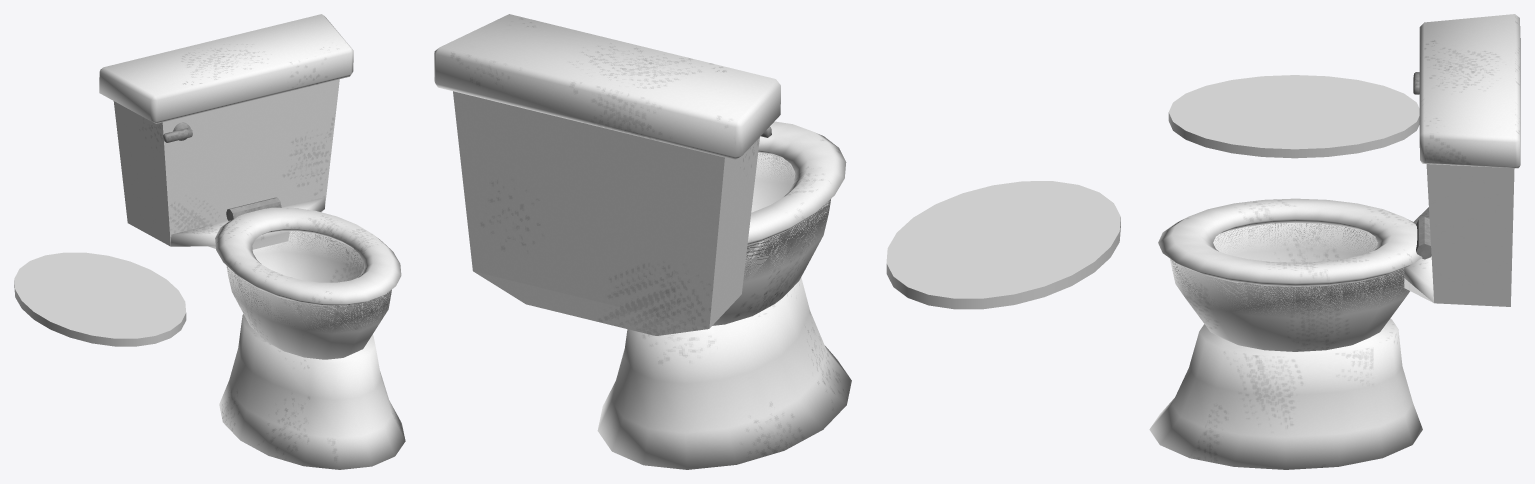
File: toilet3.glb
The picture shows the model from 3 angles, left to right: view 1: azimuth 30°, elevation 25°; view 2: azimuth 150°, elevation 25°; view 3: azimuth 270°, elevation 25°; orthographic projection. The views are drawn at different scales.
Visible parts, largest first — view 1: base, ToiletLid; view 2: base, ToiletLid; view 3: base, ToiletLid.
Part boxes in pixels (x1=…): base: x1=99, y1=14, x2=405, y2=469; ToiletLid: x1=14, y1=252, x2=186, y2=346; base: x1=434, y1=14, x2=851, y2=469; ToiletLid: x1=886, y1=181, x2=1120, y2=309; base: x1=1149, y1=14, x2=1520, y2=469; ToiletLid: x1=1168, y1=75, x2=1419, y2=158.
Size of the model in its own units: 5.98 by 4.56 by 4.32.
Materials: 1 (1 with a texture image).
